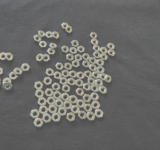nut: (34, 118, 44, 129), (63, 101, 73, 111), (29, 110, 40, 119), (2, 78, 12, 87), (21, 64, 31, 73), (43, 53, 52, 63), (43, 114, 52, 124), (35, 90, 45, 99), (38, 98, 48, 107), (48, 105, 58, 114), (83, 94, 92, 104), (8, 72, 19, 80), (3, 82, 12, 91), (44, 77, 53, 86), (82, 52, 91, 61), (52, 83, 61, 92), (47, 97, 56, 106), (52, 115, 61, 124), (54, 91, 63, 100), (71, 106, 80, 115), (87, 112, 96, 121), (91, 93, 100, 102), (77, 100, 86, 109), (97, 66, 106, 75), (39, 107, 49, 115), (44, 89, 54, 97), (67, 113, 75, 123), (14, 68, 23, 76), (34, 82, 43, 90), (45, 30, 53, 39), (53, 31, 61, 40), (36, 54, 44, 63), (48, 48, 57, 56), (62, 45, 70, 54), (93, 51, 102, 59), (56, 63, 64, 72), (62, 69, 70, 78), (62, 85, 71, 93), (70, 70, 78, 79), (68, 77, 76, 86), (76, 88, 84, 97), (55, 100, 64, 108), (95, 110, 104, 118), (79, 111, 87, 120), (76, 79, 84, 88), (83, 83, 91, 92), (92, 85, 100, 94), (93, 71, 101, 80), (6, 52, 13, 62), (34, 34, 42, 42), (39, 41, 47, 49), (38, 30, 46, 38), (66, 25, 74, 33), (70, 47, 78, 55), (77, 45, 85, 53), (101, 53, 109, 61), (46, 69, 54, 77), (54, 72, 62, 80), (65, 63, 73, 71), (67, 54, 75, 62), (75, 54, 83, 62), (60, 77, 68, 85), (59, 108, 67, 116), (62, 94, 70, 102), (70, 96, 78, 104), (93, 101, 101, 109), (76, 88, 84, 96), (96, 79, 104, 87), (85, 71, 93, 79), (0, 53, 7, 62), (90, 32, 99, 39), (107, 50, 116, 57), (72, 61, 81, 68), (100, 86, 107, 95), (84, 60, 91, 69), (50, 42, 58, 49), (72, 40, 80, 47), (91, 39, 99, 46), (93, 45, 101, 52), (101, 46, 108, 54), (90, 57, 97, 65), (97, 59, 105, 66), (78, 72, 85, 80), (85, 105, 93, 112), (88, 78, 95, 86), (106, 75, 112, 84), (62, 23, 69, 30), (108, 43, 115, 50), (100, 74, 107, 81), (90, 65, 97, 72), (50, 43, 58, 49), (0, 67, 3, 76), (0, 76, 2, 83)
